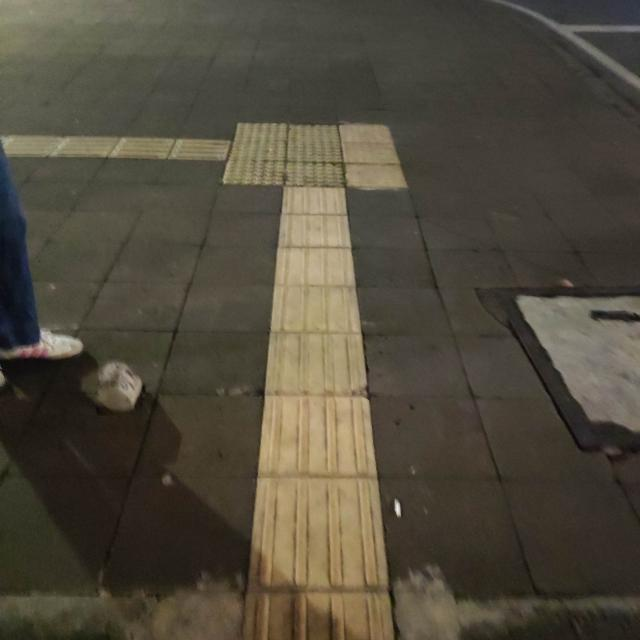kiri: (146, 87, 364, 238)
